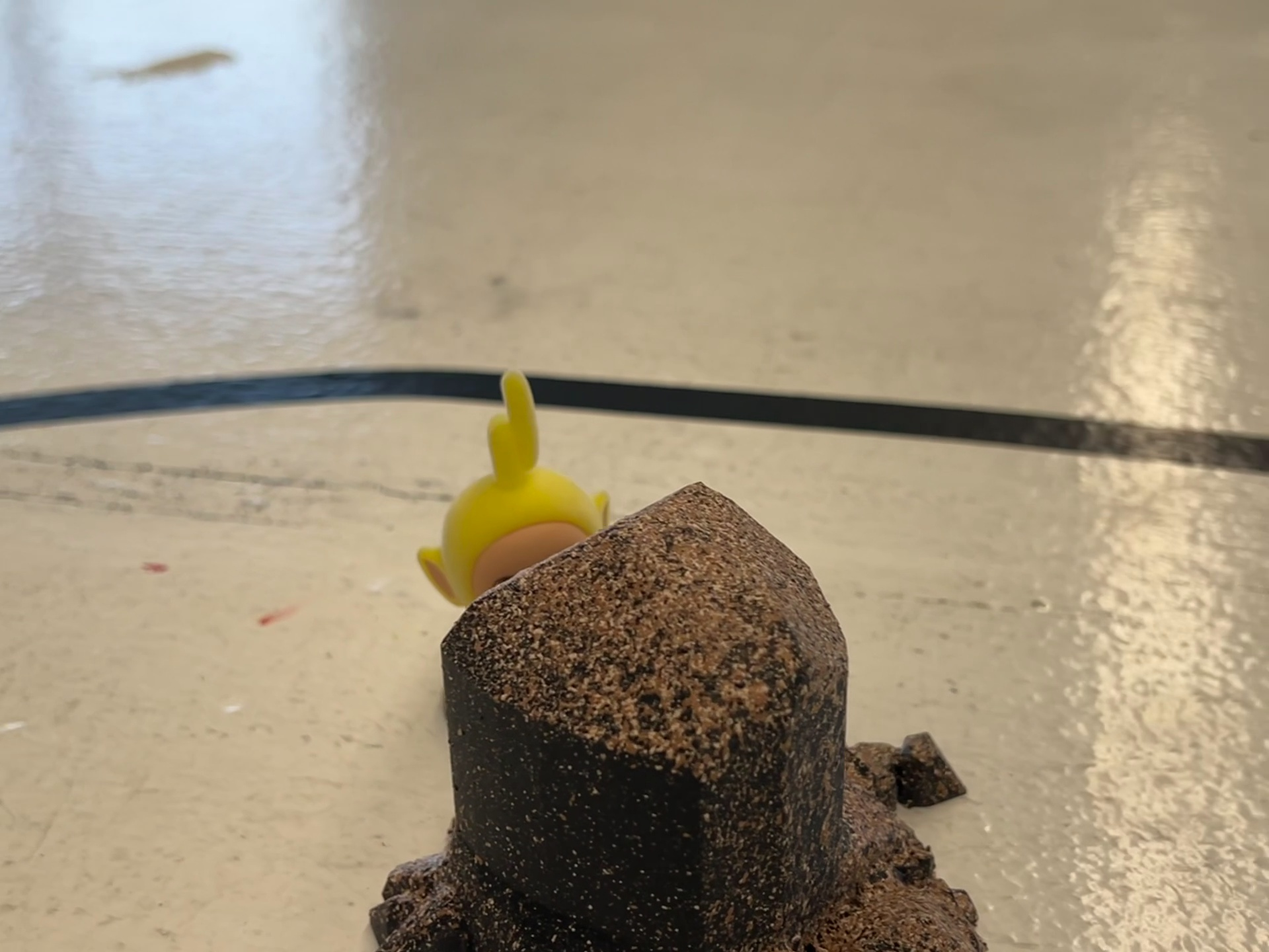teletubby: (418, 372, 608, 606)
